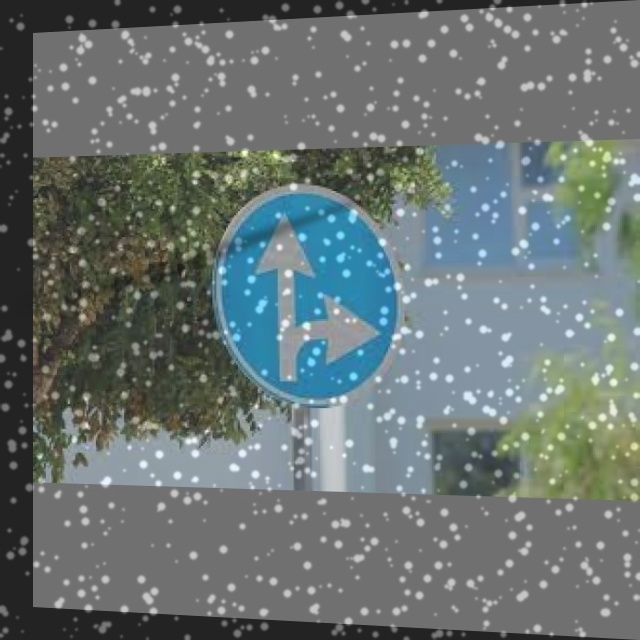Compulsory_Ahead_or_Turn_Right: (215, 181, 404, 414)
